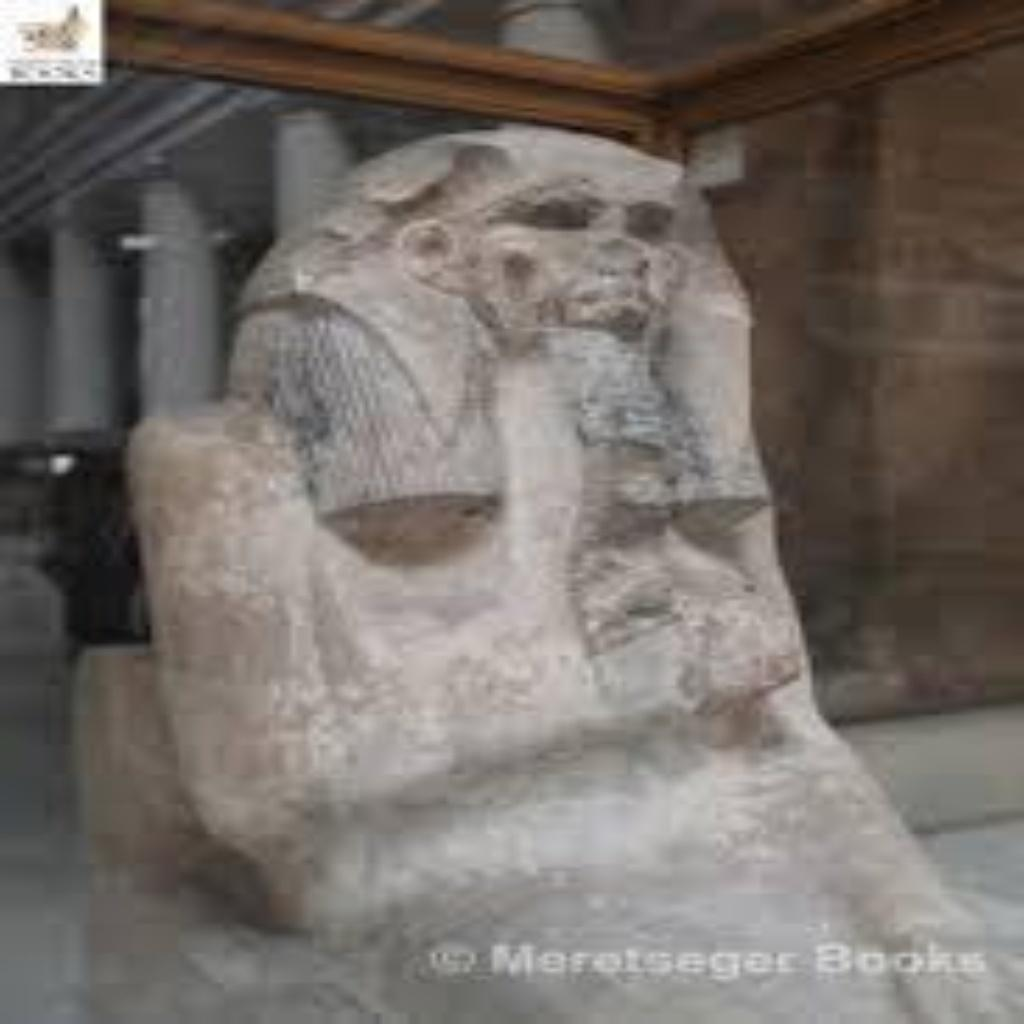Statue of King Zoser: (67, 116, 1007, 1016)
